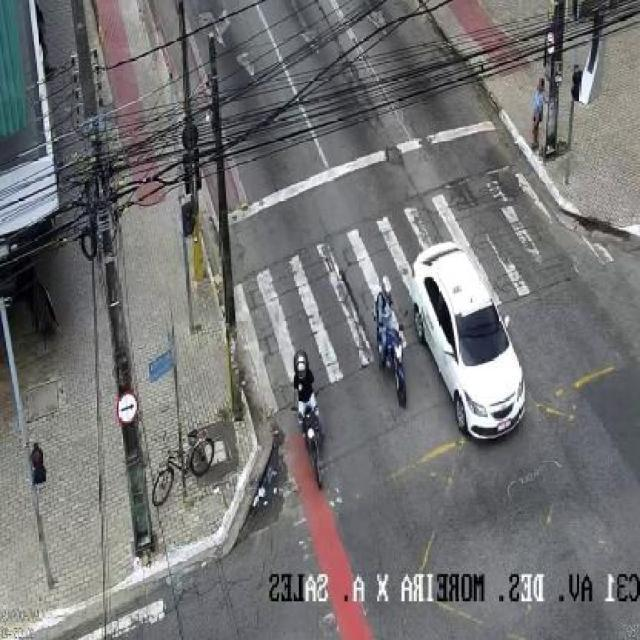Car: (412, 242, 531, 448)
Cycle: (295, 347, 330, 492), (373, 276, 410, 405)
